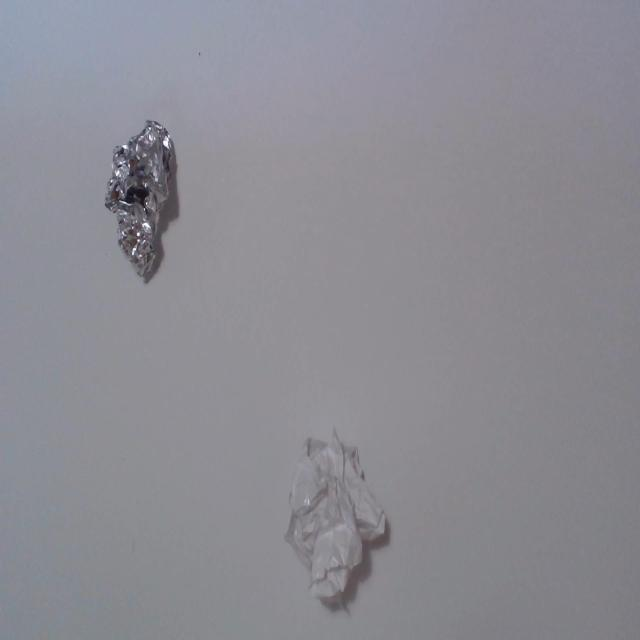Paper: (289, 433, 391, 592)
